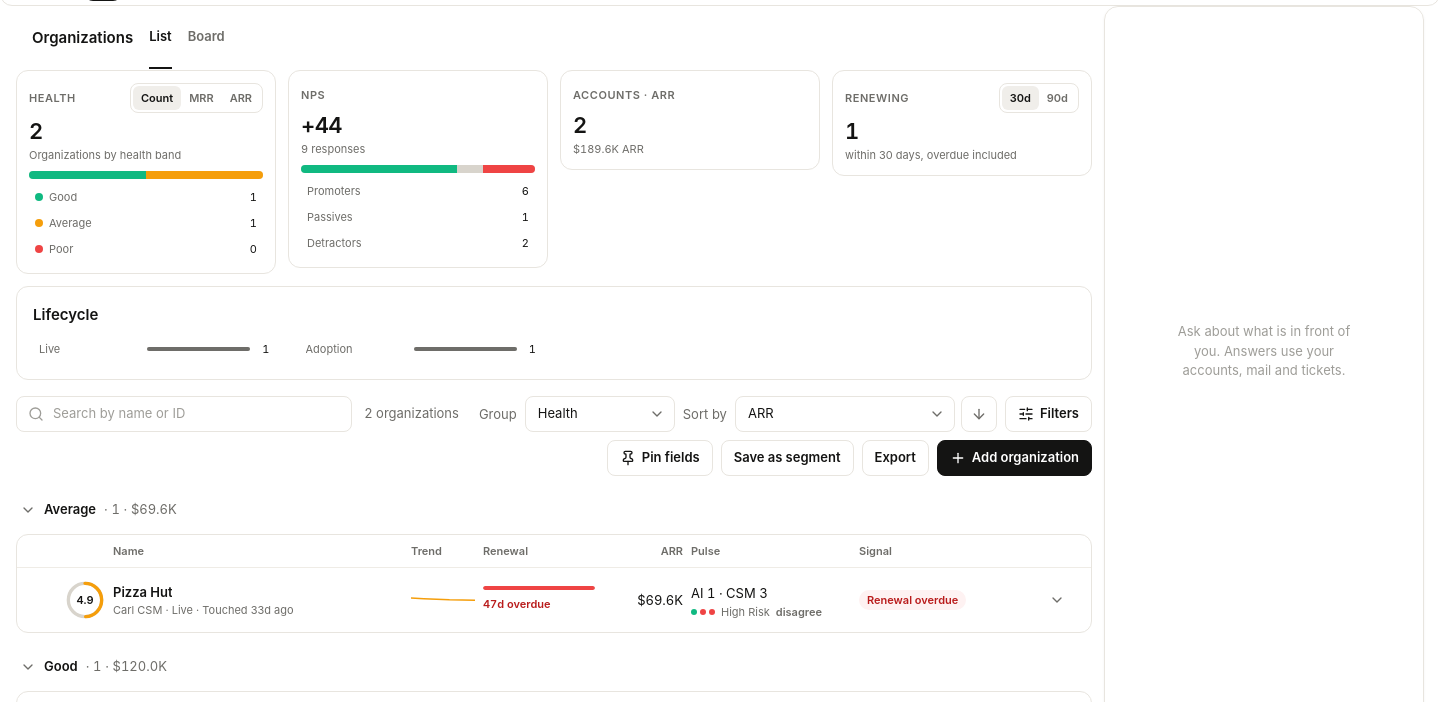
Ask Revenact on Organizations › narrows the next question to an opened row, for that question only
Click the button named "Open Pizza Hut": coordinates (1057, 600) top-left (1039, 582), bottom-right (1075, 618)
(page scrolled)
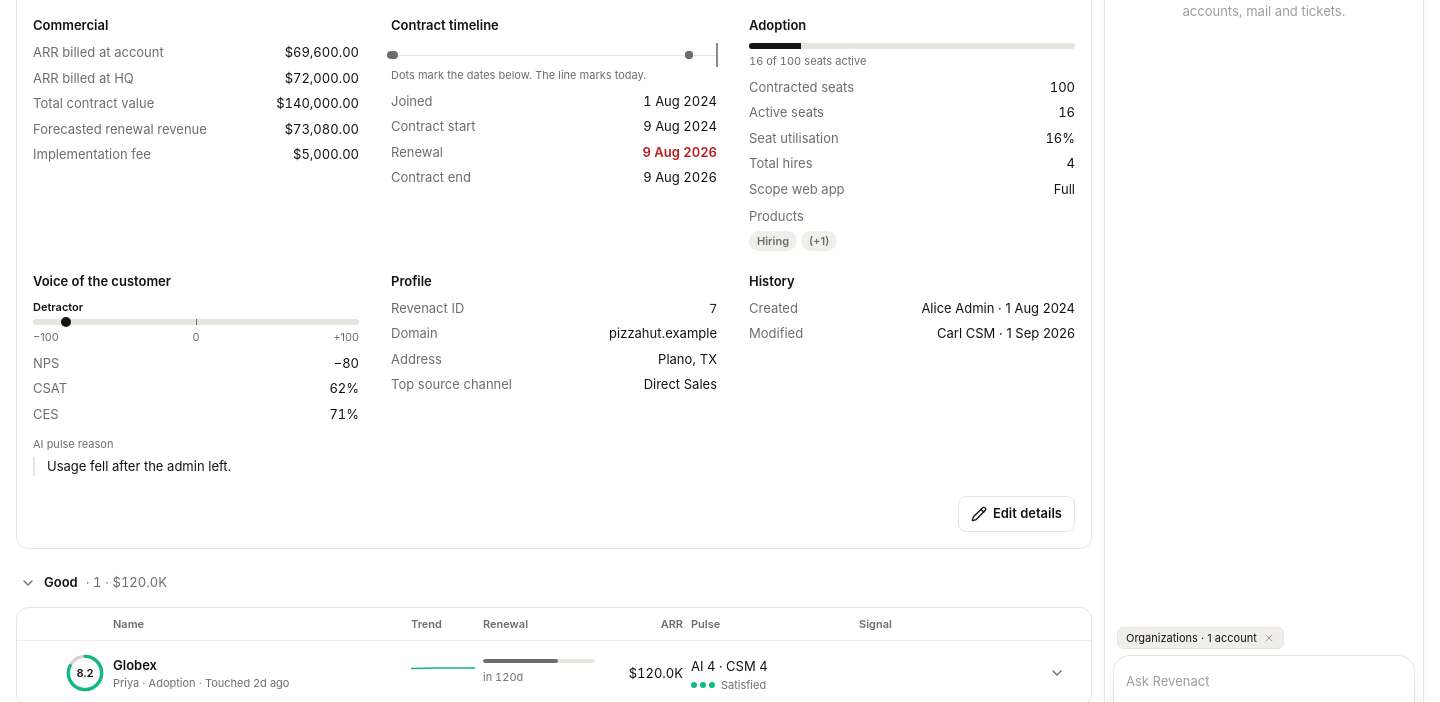
expect the text "Organizations · 1 account" is shown: met, box top-left (1117, 626), bottom-right (1284, 649)
In the field with placeholder "Ask Revenact": coordinates (1264, 682) top-left (1126, 670), bottom-right (1402, 694), type "Why is this at risk?"
Then press Enter
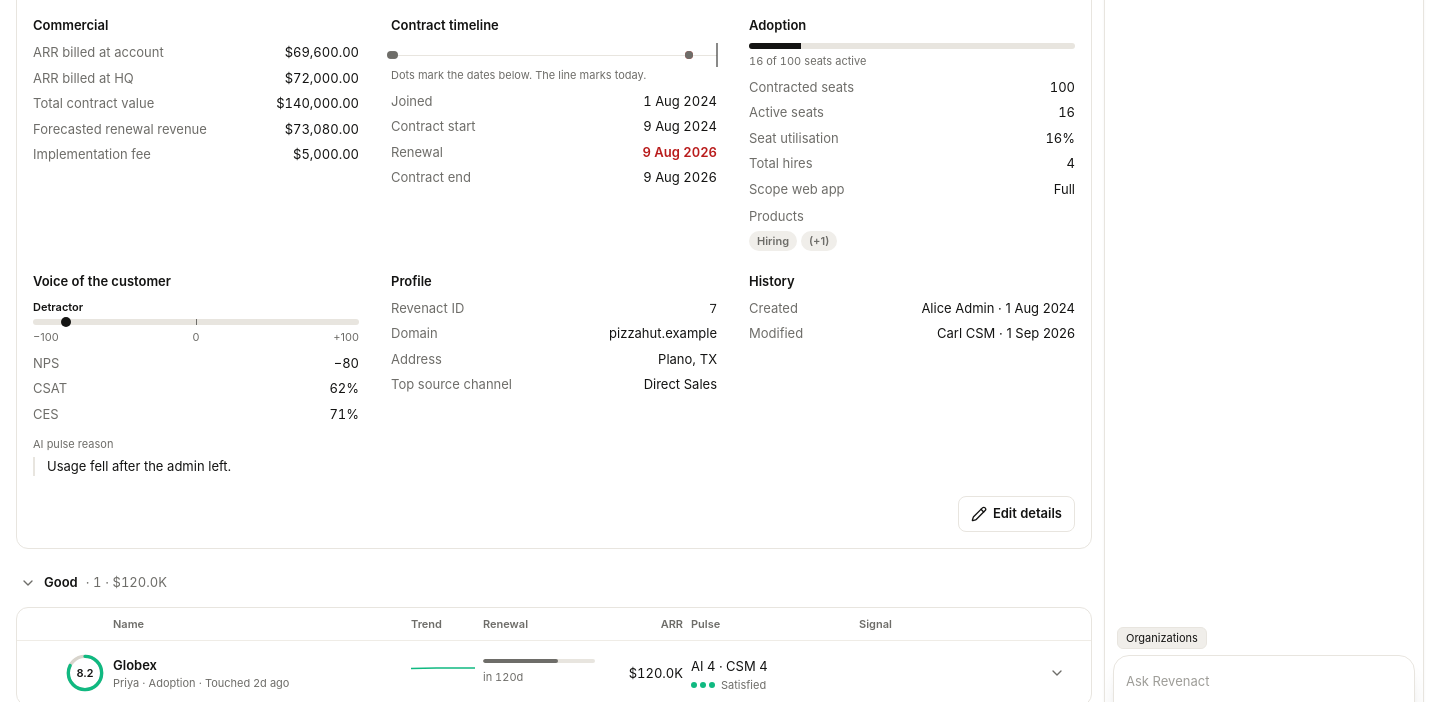
In the field with placeholder "Ask Revenact": coordinates (1264, 682) top-left (1126, 670), bottom-right (1402, 694), type "And the rest?"
Then press Enter
(page scrolled)
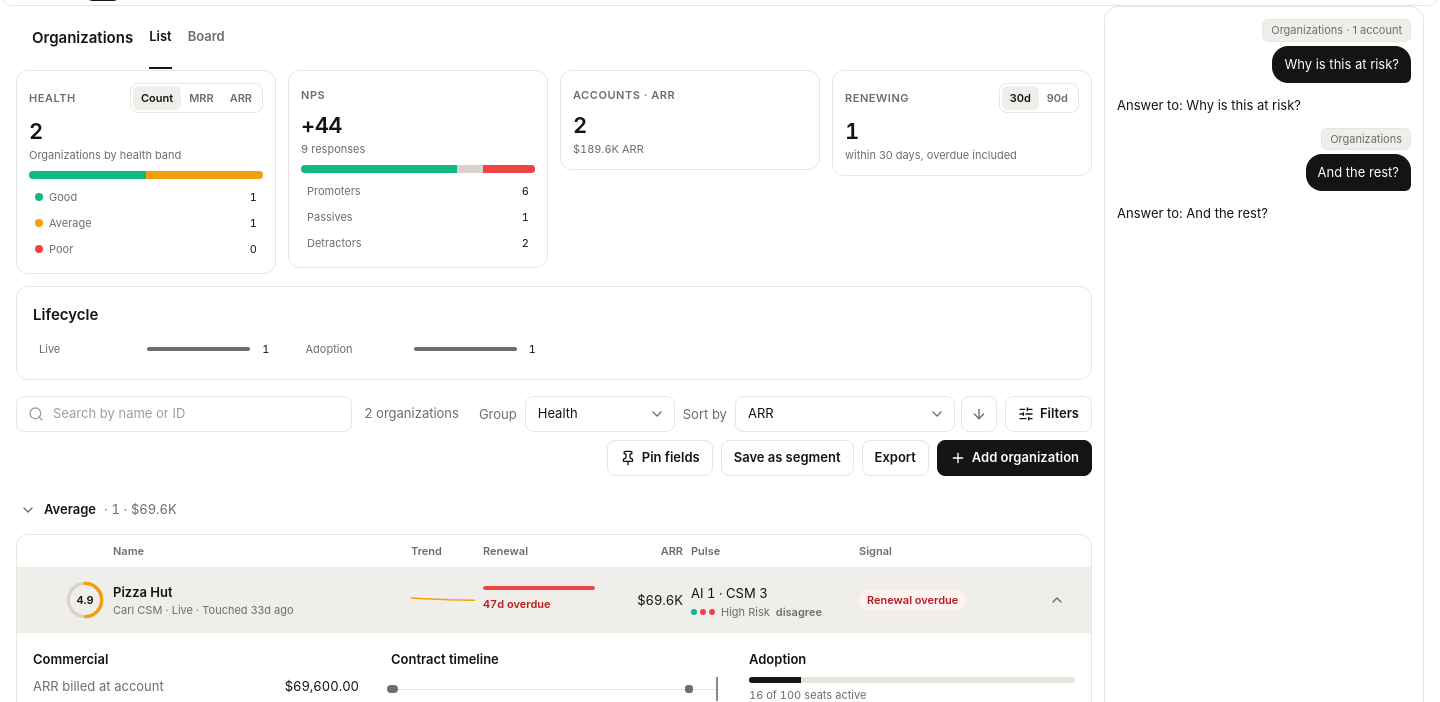
expect the text "Answer to: And the rest?" is shown: met, box top-left (1117, 203), bottom-right (1268, 224)
